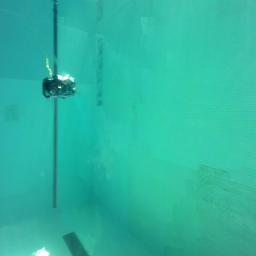front: (42, 74, 76, 98)
